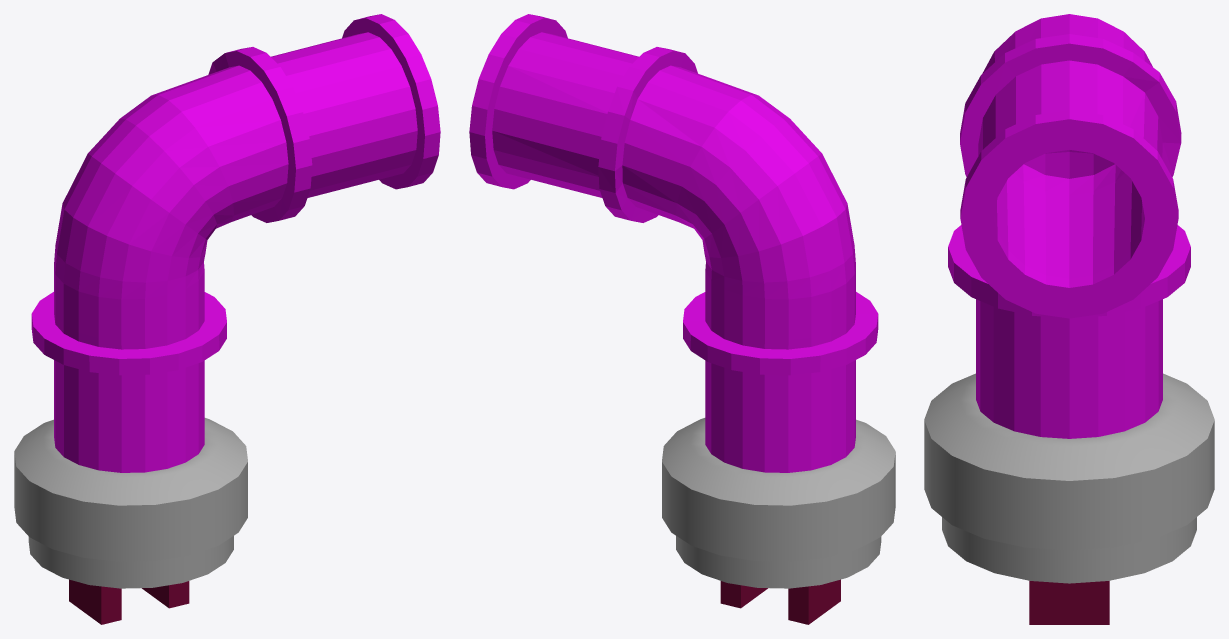
The model's file is PipeOilSlick.fbx.
3 views of the same model, side by side, from view 1: azimuth 30°, elevation 25°; view 2: azimuth 150°, elevation 25°; view 3: azimuth 270°, elevation 25° (orthographic). The views are drawn at different scales.
Visible parts, largest first — view 1: pPipe1, DuolBOTwEAPONbackup:pCube8; view 2: pPipe1, DuolBOTwEAPONbackup:pCube8; view 3: pPipe1, DuolBOTwEAPONbackup:pCube8.
Part boxes in pixels (bbox=[...]): pPipe1: bbox=[31, 14, 440, 472]; DuolBOTwEAPONbackup:pCube8: bbox=[14, 418, 247, 624]; pPipe1: bbox=[469, 14, 878, 472]; DuolBOTwEAPONbackup:pCube8: bbox=[662, 418, 895, 624]; pPipe1: bbox=[948, 14, 1190, 438]; DuolBOTwEAPONbackup:pCube8: bbox=[924, 373, 1214, 624].
Size of the model in its own units: 3.62 by 4.86 by 2.
